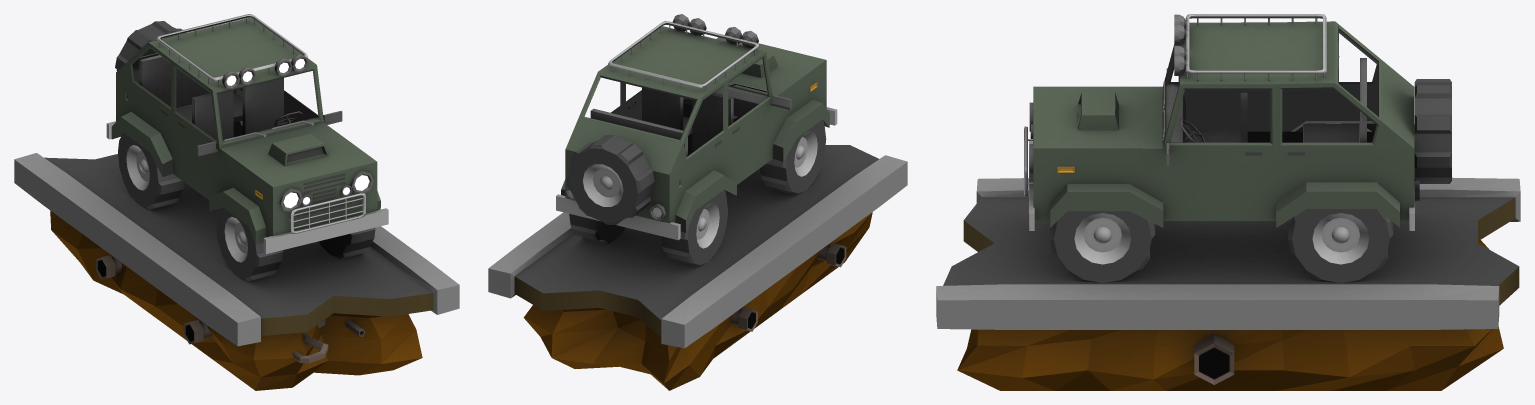
3 views of the same model, side by side, from view 1: azimuth 30°, elevation 25°; view 2: azimuth 150°, elevation 25°; view 3: azimuth 270°, elevation 25° (orthographic). The views are drawn at different scales.
Visible parts, largest first — view 1: platform, Box002; view 2: platform, Box002; view 3: platform, Box002.
Boxes of the visible parts, box(x1,y1,x2,y2) form: platform: box(14, 153, 459, 390); Box002: box(106, 14, 388, 281); platform: box(488, 145, 907, 390); Box002: box(556, 14, 837, 266); platform: box(936, 177, 1520, 390); Box002: box(1024, 14, 1451, 282).
Bounding box in the file's own units: 1.43 × 1.76 × 2.89.
